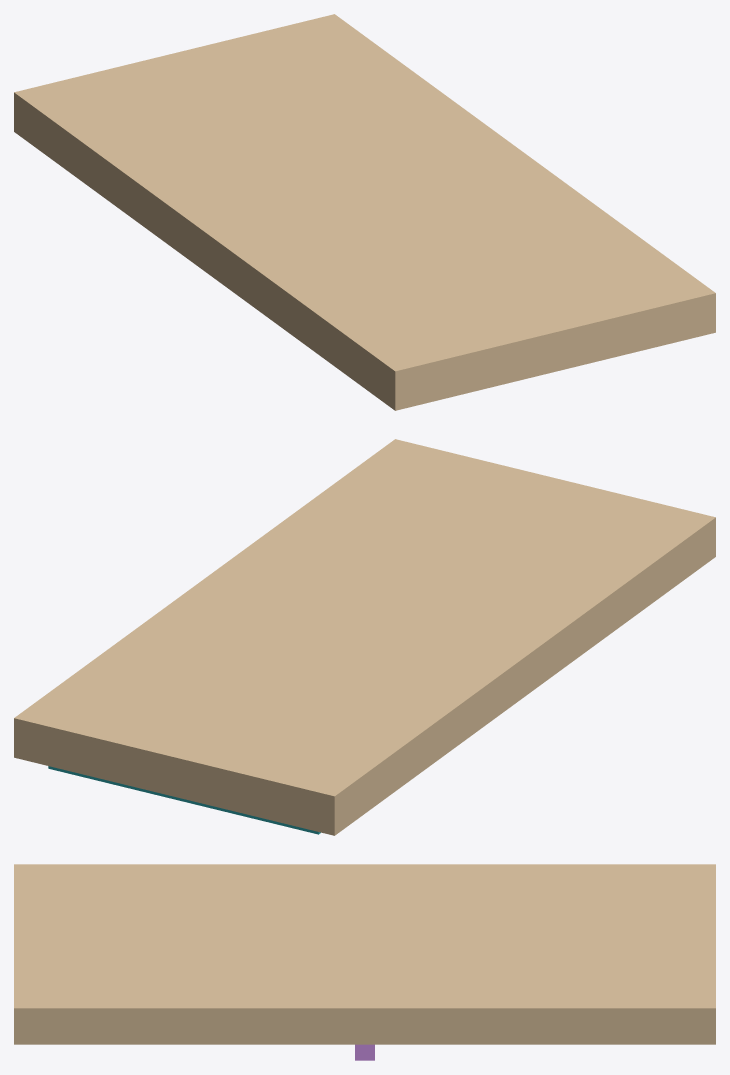
Rendered from lever-handle-door-set.glb.
3 views of the same model, one above another, from view 1: azimuth 30°, elevation 25°; view 2: azimuth 150°, elevation 25°; view 3: azimuth 270°, elevation 25° (orthographic). The views are drawn at different scales.
Parts seen in each view (by area): view 1: world; view 2: world; view 3: world.
Part boxes in pixels (box(x1,y1,x2,y2)): world: box(14, 14, 715, 410); world: box(14, 439, 715, 835); world: box(14, 864, 715, 1060).
Size of the model in its own units: 1.02 by 0.21 by 2.1.
